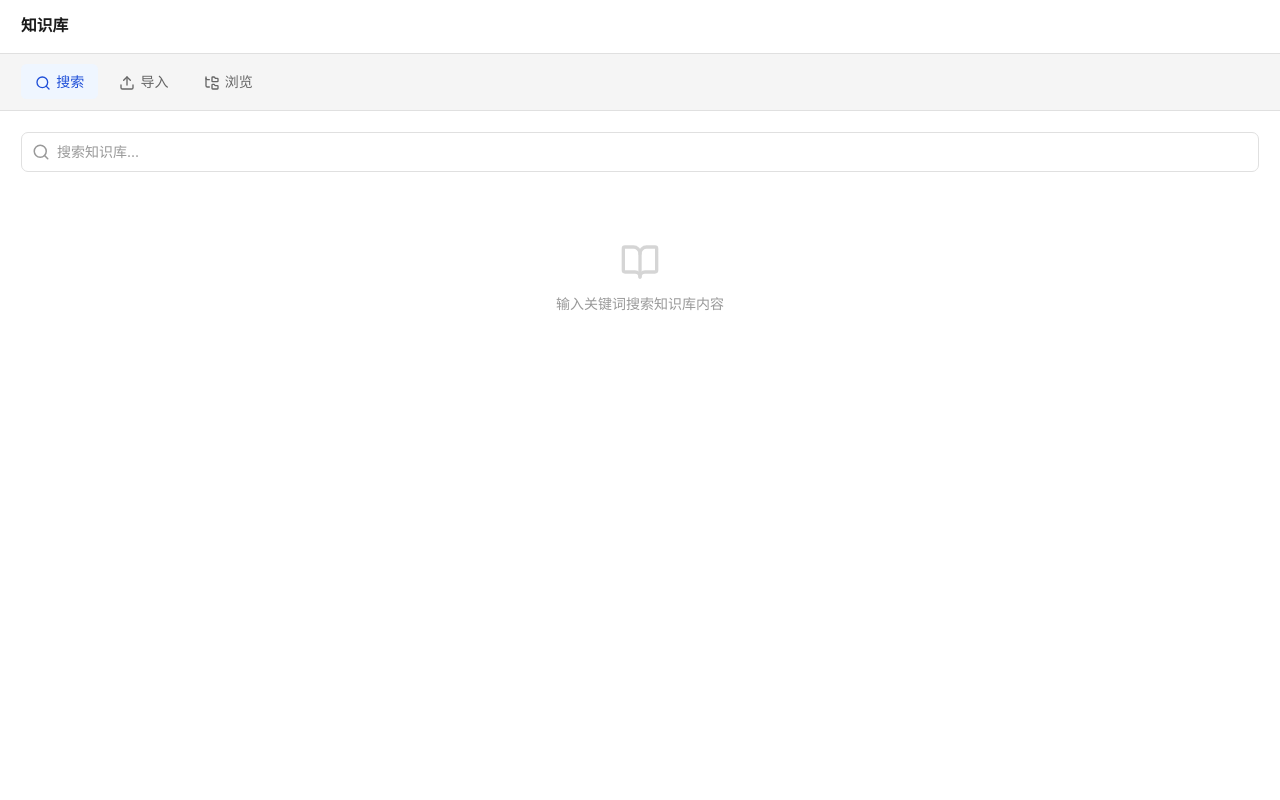
Test: KnowledgePanel › shows an error alert when the delete request fails
What coordinates should you click on to do the following:
click the tab "浏览"
I would click on:
 (228, 82)
Its box is x1=190 y1=64 x2=267 y2=99.
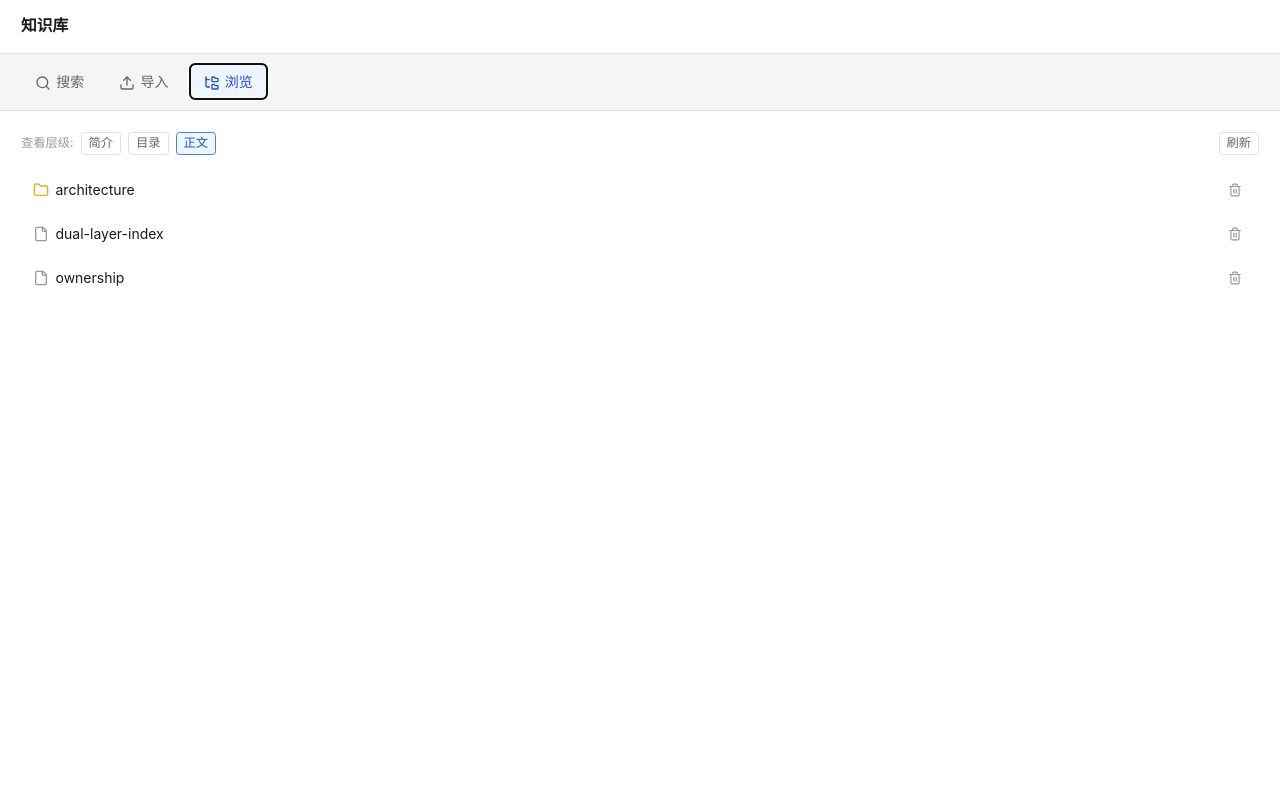
Expected: the text "architecture" is shown, x1=56 y1=179 x2=135 y2=200
What coordinates should you click on to do the following:
click the button named "删除 ownership"
I would click on:
 (1235, 278)
Its box is x1=1223 y1=265 x2=1248 y2=290.
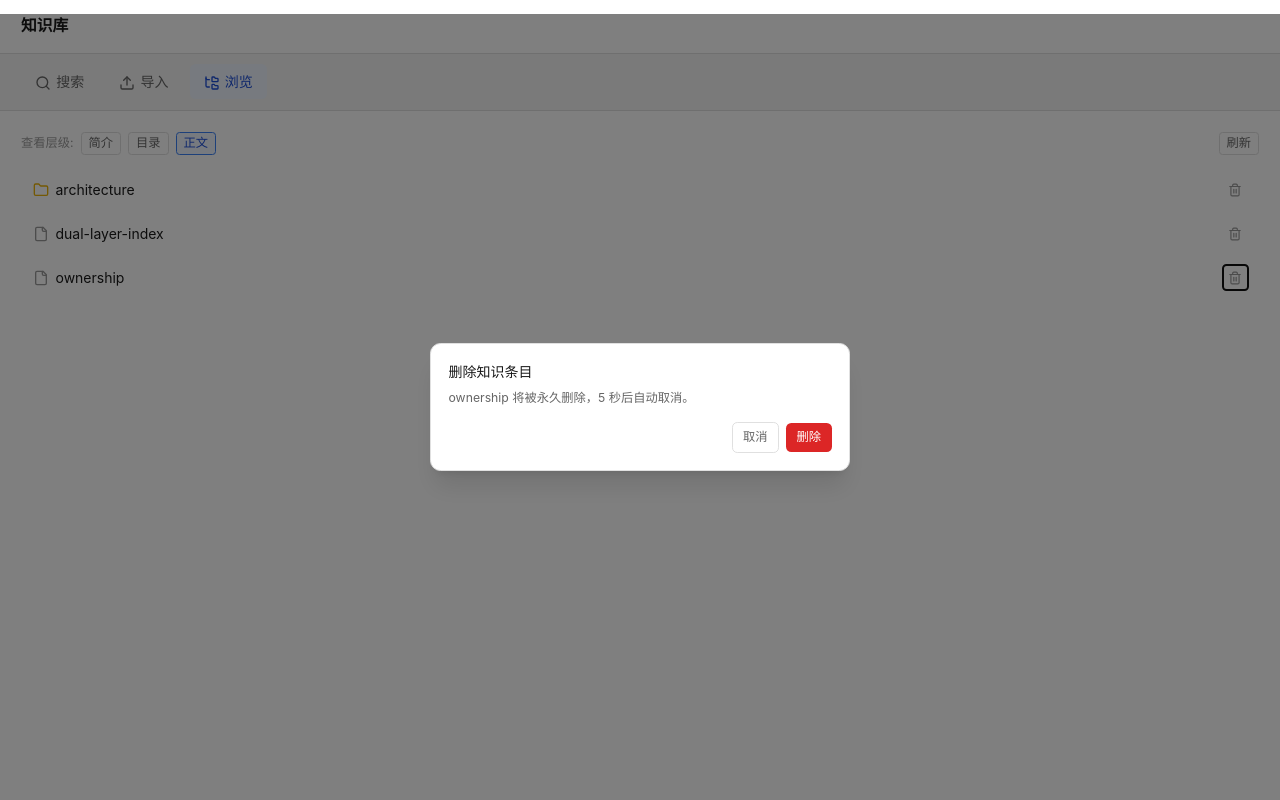
What coordinates should you click on to do the following:
click the button "删除"
I would click on:
 (809, 437)
Its box is x1=786 y1=423 x2=832 y2=452.
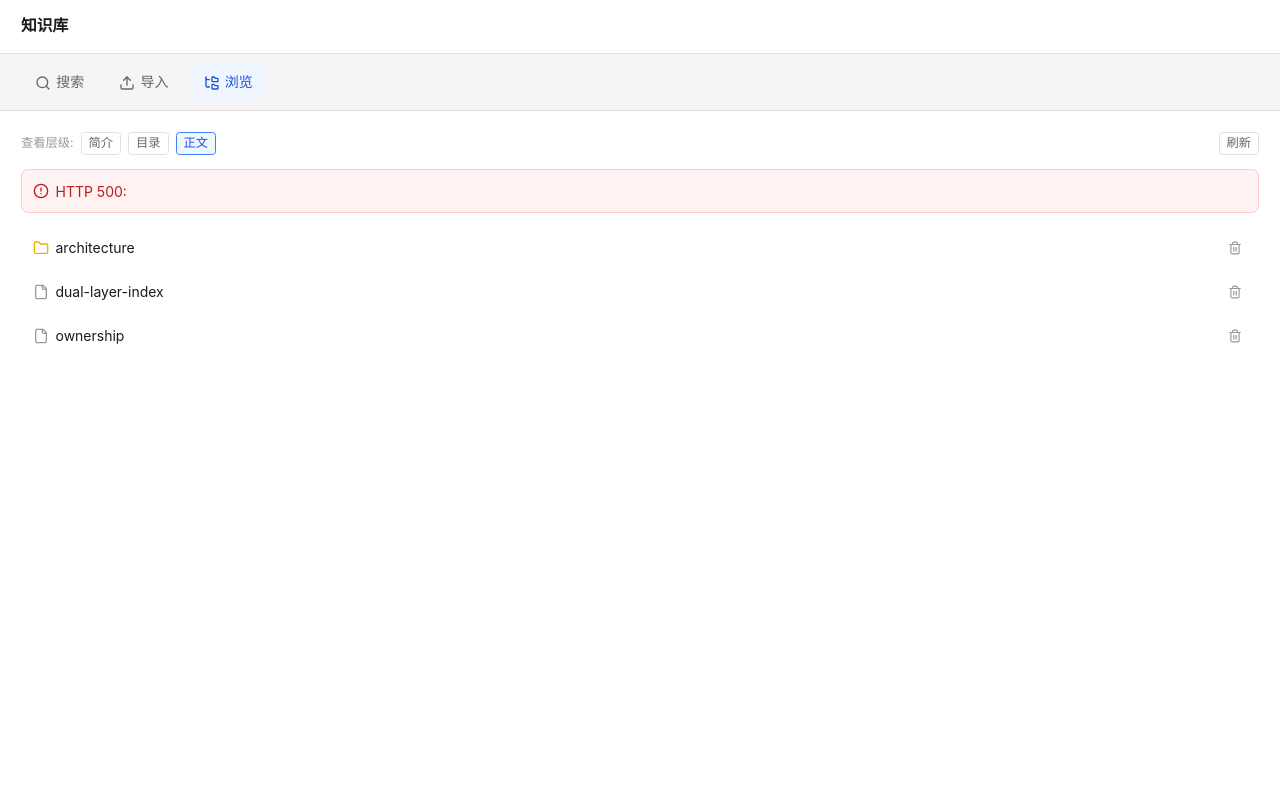
Expected: the text "ownership" is shown, x1=56 y1=325 x2=124 y2=346
Expected: the message "HTTP 500:" is shown, x1=21 y1=169 x2=1259 y2=213
Expected: the message shows "HTTP 500", x1=56 y1=183 x2=127 y2=200
